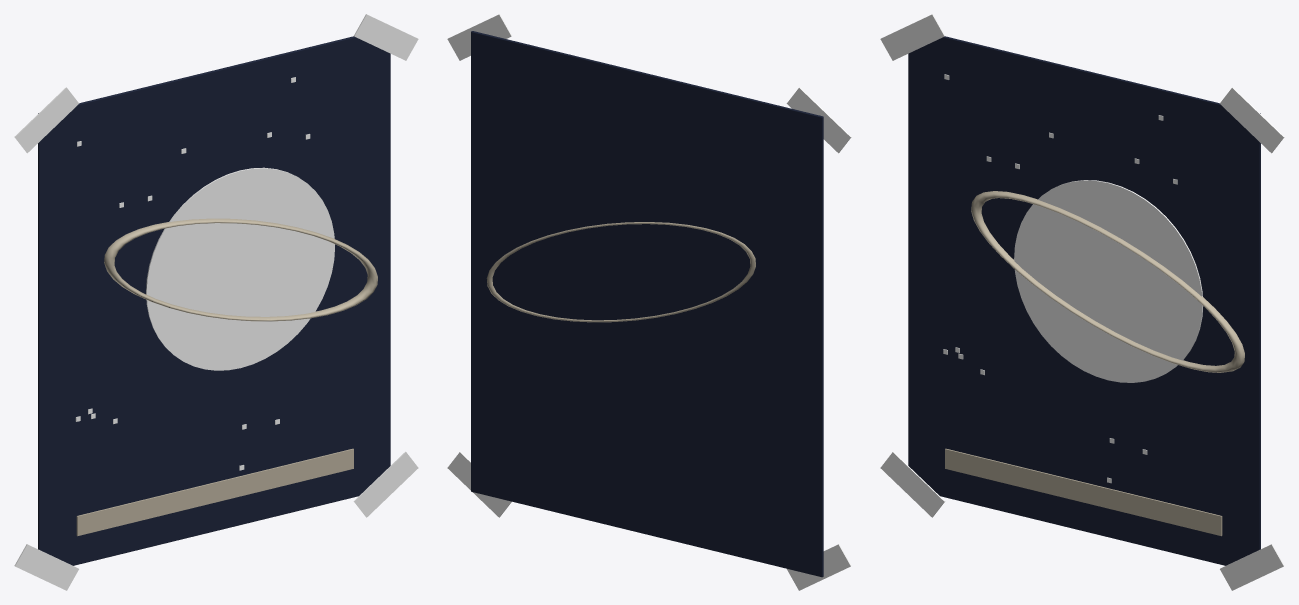
The model's file is planet-poster-f0d93219.glb.
3 views of the same model, side by side, from view 1: azimuth 30°, elevation 25°; view 2: azimuth 150°, elevation 25°; view 3: azimuth 330°, elevation 25° (orthographic).
Parts seen in each view (by area): view 1: Inspect · Poster · paper, Inspect · Poster · planet, Inspect · Poster · title band, Inspect · Poster · planet ring, Inspect · Poster · masking tape, Inspect · Poster · masking tape.003, Inspect · Poster · masking tape.001, Inspect · Poster · masking tape.002; view 2: Inspect · Poster · paper, Inspect · Poster · planet ring, Inspect · Poster · masking tape, Inspect · Poster · masking tape.001, Inspect · Poster · masking tape.002, Inspect · Poster · masking tape.003; view 3: Inspect · Poster · paper, Inspect · Poster · planet, Inspect · Poster · title band, Inspect · Poster · planet ring, Inspect · Poster · masking tape.001, Inspect · Poster · masking tape.002, Inspect · Poster · masking tape, Inspect · Poster · masking tape.003.
Boxes of the visible parts, x1,y1,x2,y2 form: Inspect · Poster · paper: (38,36,390,565); Inspect · Poster · planet: (146,167,334,370); Inspect · Poster · title band: (76,448,353,536); Inspect · Poster · planet ring: (104,218,377,321); Inspect · Poster · masking tape: (14,87,79,153); Inspect · Poster · masking tape.003: (353,451,418,517); Inspect · Poster · masking tape.001: (354,14,418,60); Inspect · Poster · masking tape.002: (14,544,78,590); Inspect · Poster · paper: (471,31,823,577); Inspect · Poster · planet ring: (486,222,755,322); Inspect · Poster · masking tape: (786,87,851,153); Inspect · Poster · masking tape.001: (447,14,511,60); Inspect · Poster · masking tape.002: (787,544,851,590); Inspect · Poster · masking tape.003: (447,451,511,517); Inspect · Poster · paper: (908,36,1260,565); Inspect · Poster · planet: (1014,180,1203,382); Inspect · Poster · title band: (945,448,1222,536); Inspect · Poster · planet ring: (971,191,1244,372); Inspect · Poster · masking tape.001: (1219,87,1284,153); Inspect · Poster · masking tape.002: (880,451,945,517); Inspect · Poster · masking tape: (880,14,944,60); Inspect · Poster · masking tape.003: (1220,544,1284,590).
Bounding box in the file's own units: 0.6423 × 0.7654 × 0.016.
